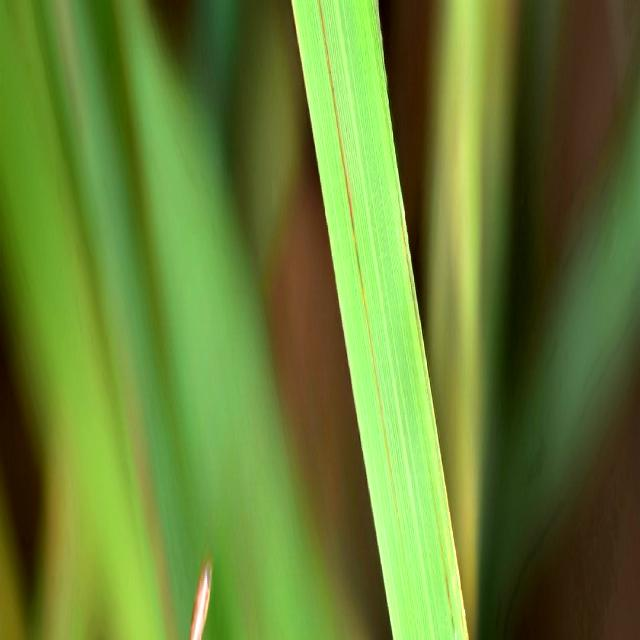BLS: (318, 0, 404, 548)
